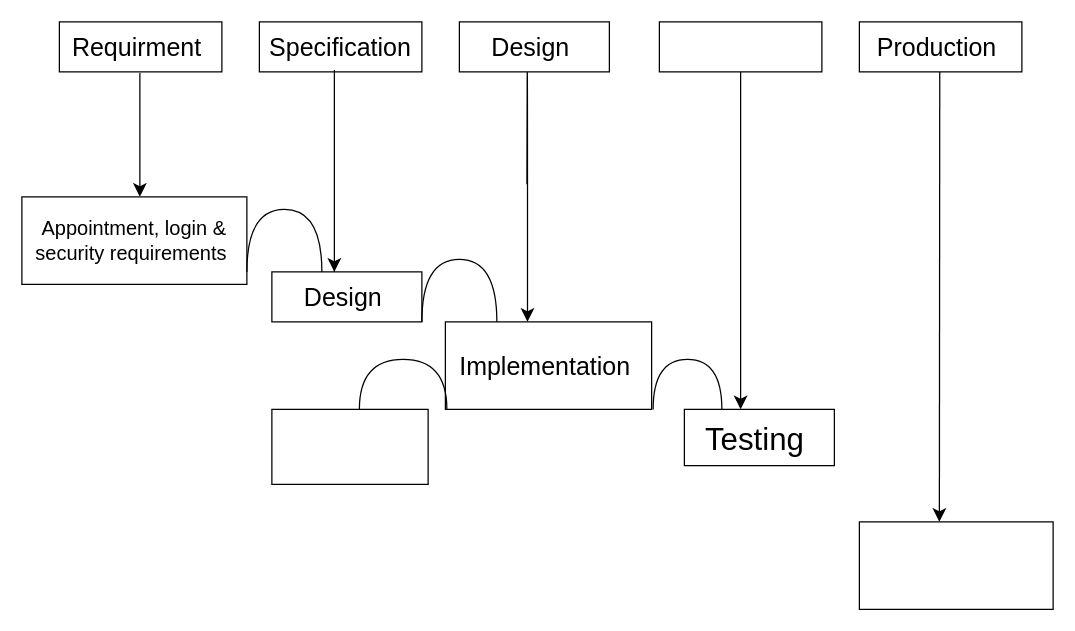
Some shapes in this 1075 by 631 pixel diagram are drawn without their labels. The centre of each missing label's shape, as x and y in pixels:
"Construction" belongs at [740,46].
"Maintenance" belongs at [955,565].
"Php coding" belongs at [349,446].
